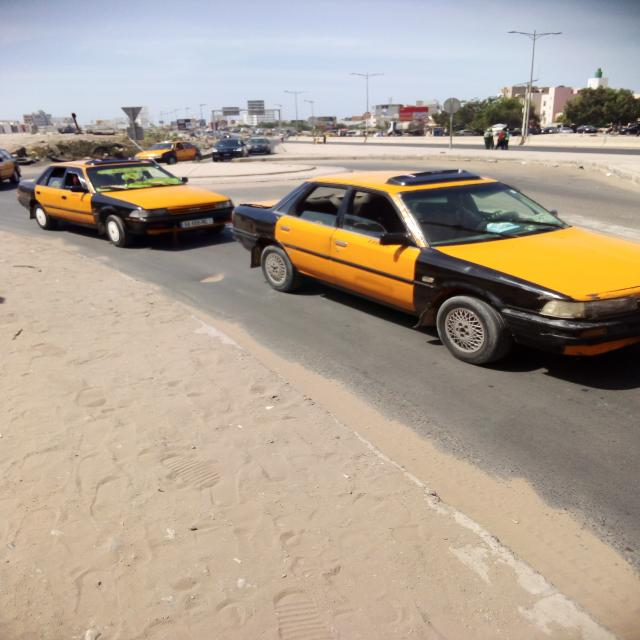particulier: (213, 140, 249, 162), (246, 139, 273, 155)
taxi: (233, 171, 640, 365), (19, 160, 234, 247), (136, 142, 201, 165)
